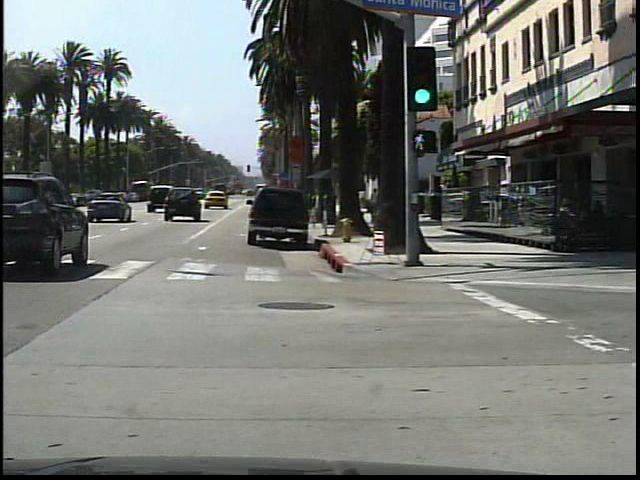person: (370, 185, 383, 226)
